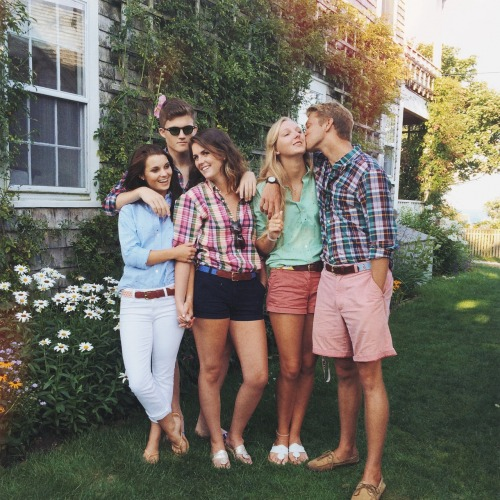Person: (307, 102, 393, 500), (189, 129, 268, 471), (118, 145, 188, 463), (266, 117, 307, 463), (157, 98, 197, 156)
